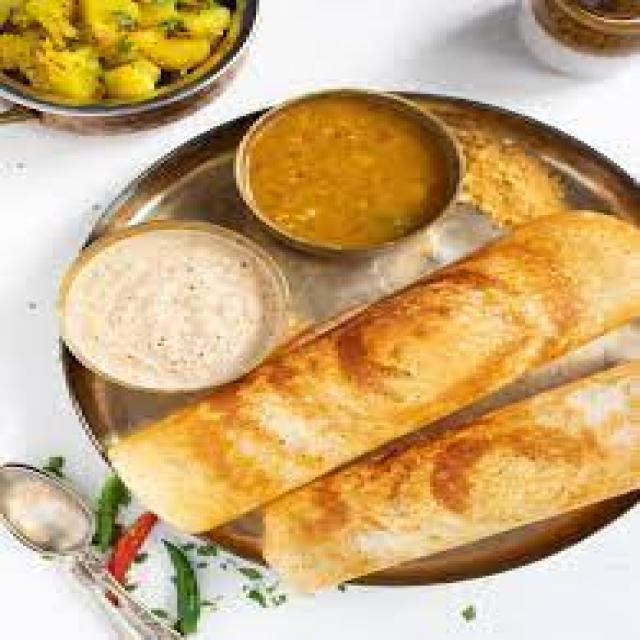Wet Waste: (108, 213, 637, 536), (243, 358, 637, 591), (56, 215, 292, 393)
